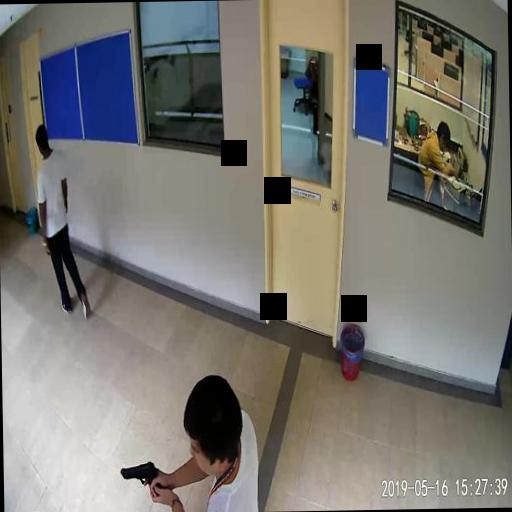Handgun: (118, 458, 160, 496)
